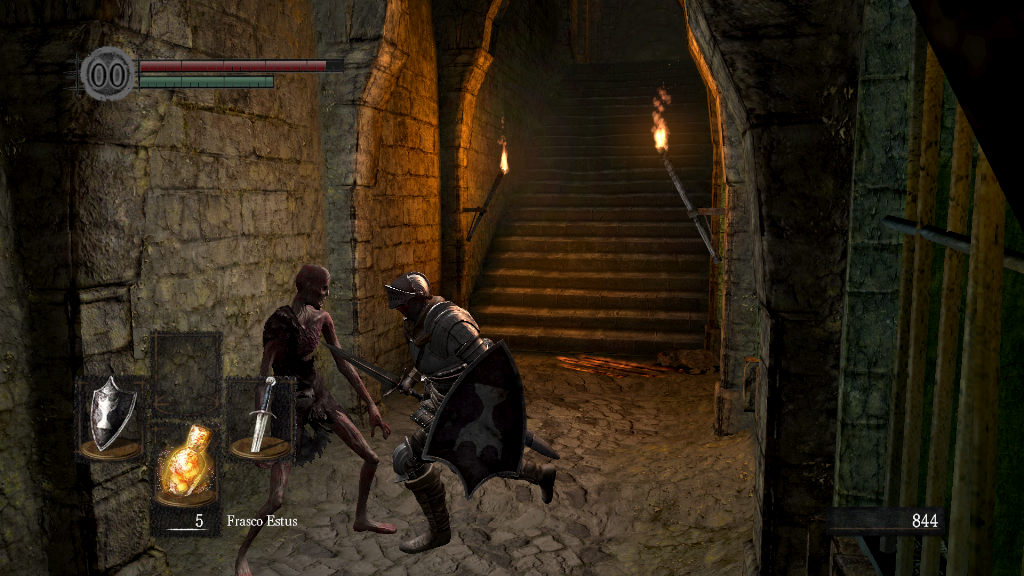health: (138, 58, 343, 71)
hollow: (235, 265, 398, 576)
humanity: (80, 45, 136, 102)
player: (321, 269, 560, 555)
souls: (825, 506, 945, 536)
stamina: (138, 74, 274, 88)
